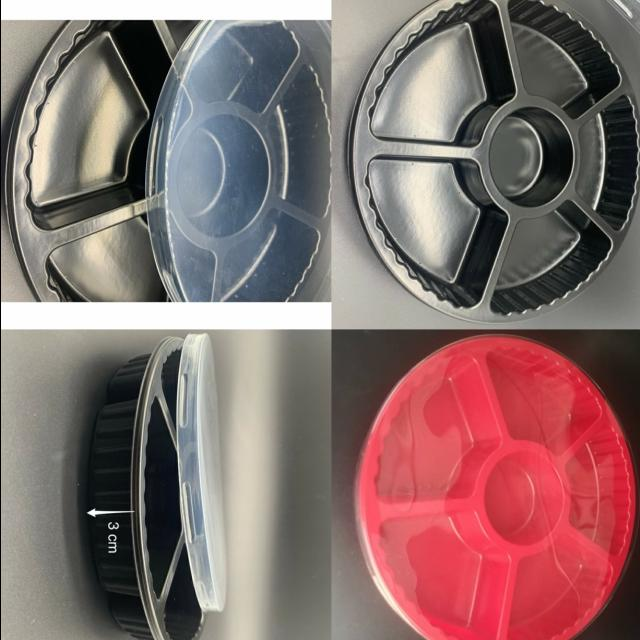plastik: (349, 0, 640, 322), (6, 21, 329, 302), (355, 336, 636, 640), (88, 339, 204, 640), (176, 333, 226, 611)
